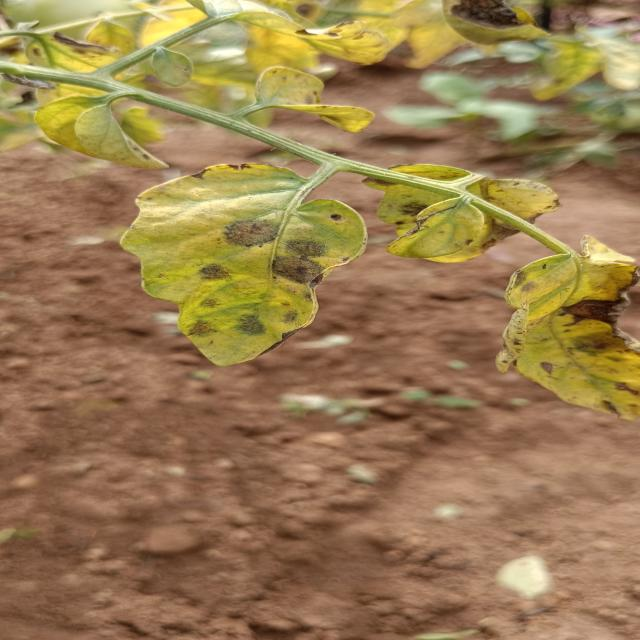tomato_early blight: (120, 163, 366, 366), (368, 159, 548, 262), (514, 310, 640, 420), (245, 58, 367, 131), (386, 196, 484, 258), (32, 95, 99, 152)
